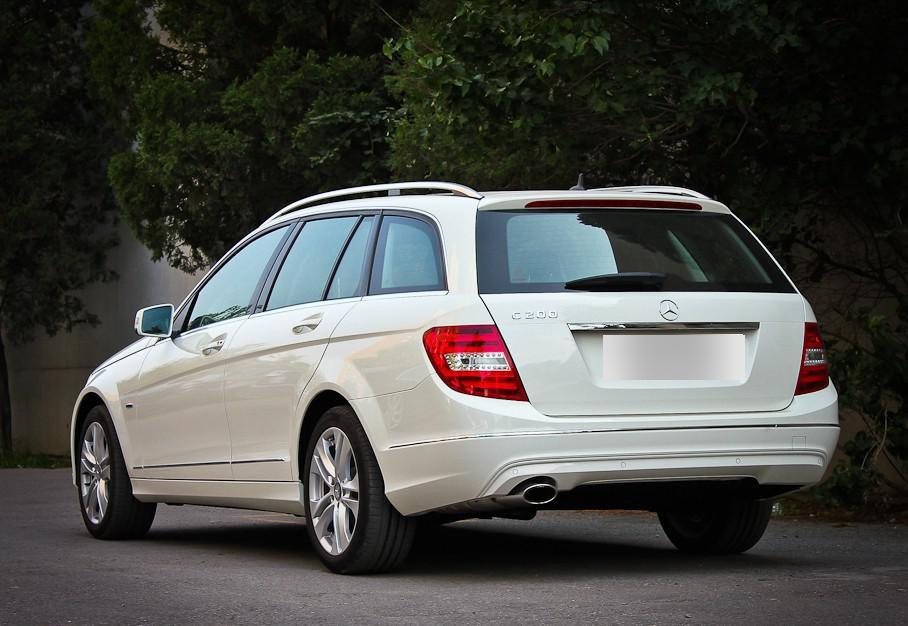Wagon: (68, 179, 840, 579)
